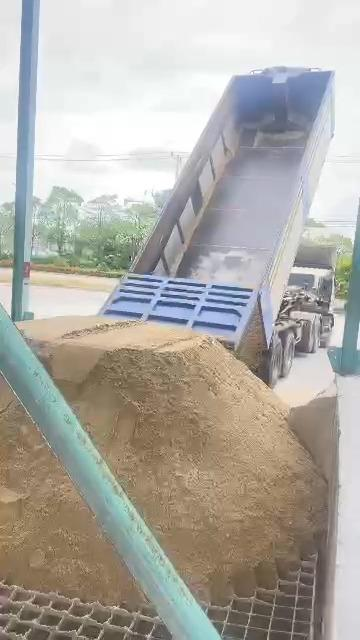sand: (21, 318, 324, 599), (1, 383, 140, 602), (289, 383, 338, 488)
